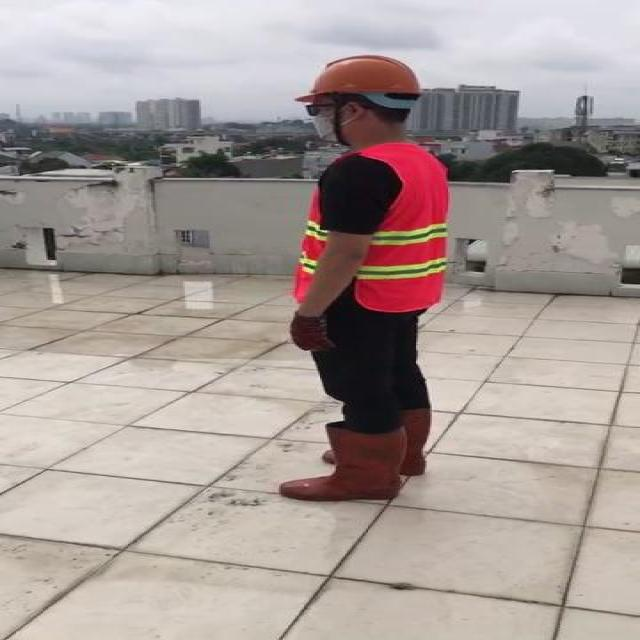boots: (279, 426, 404, 500), (391, 406, 434, 475)
hand_glove: (288, 314, 334, 351)
head_helmet: (294, 53, 419, 101)
person: (263, 48, 453, 508)
vest: (297, 143, 450, 312)
